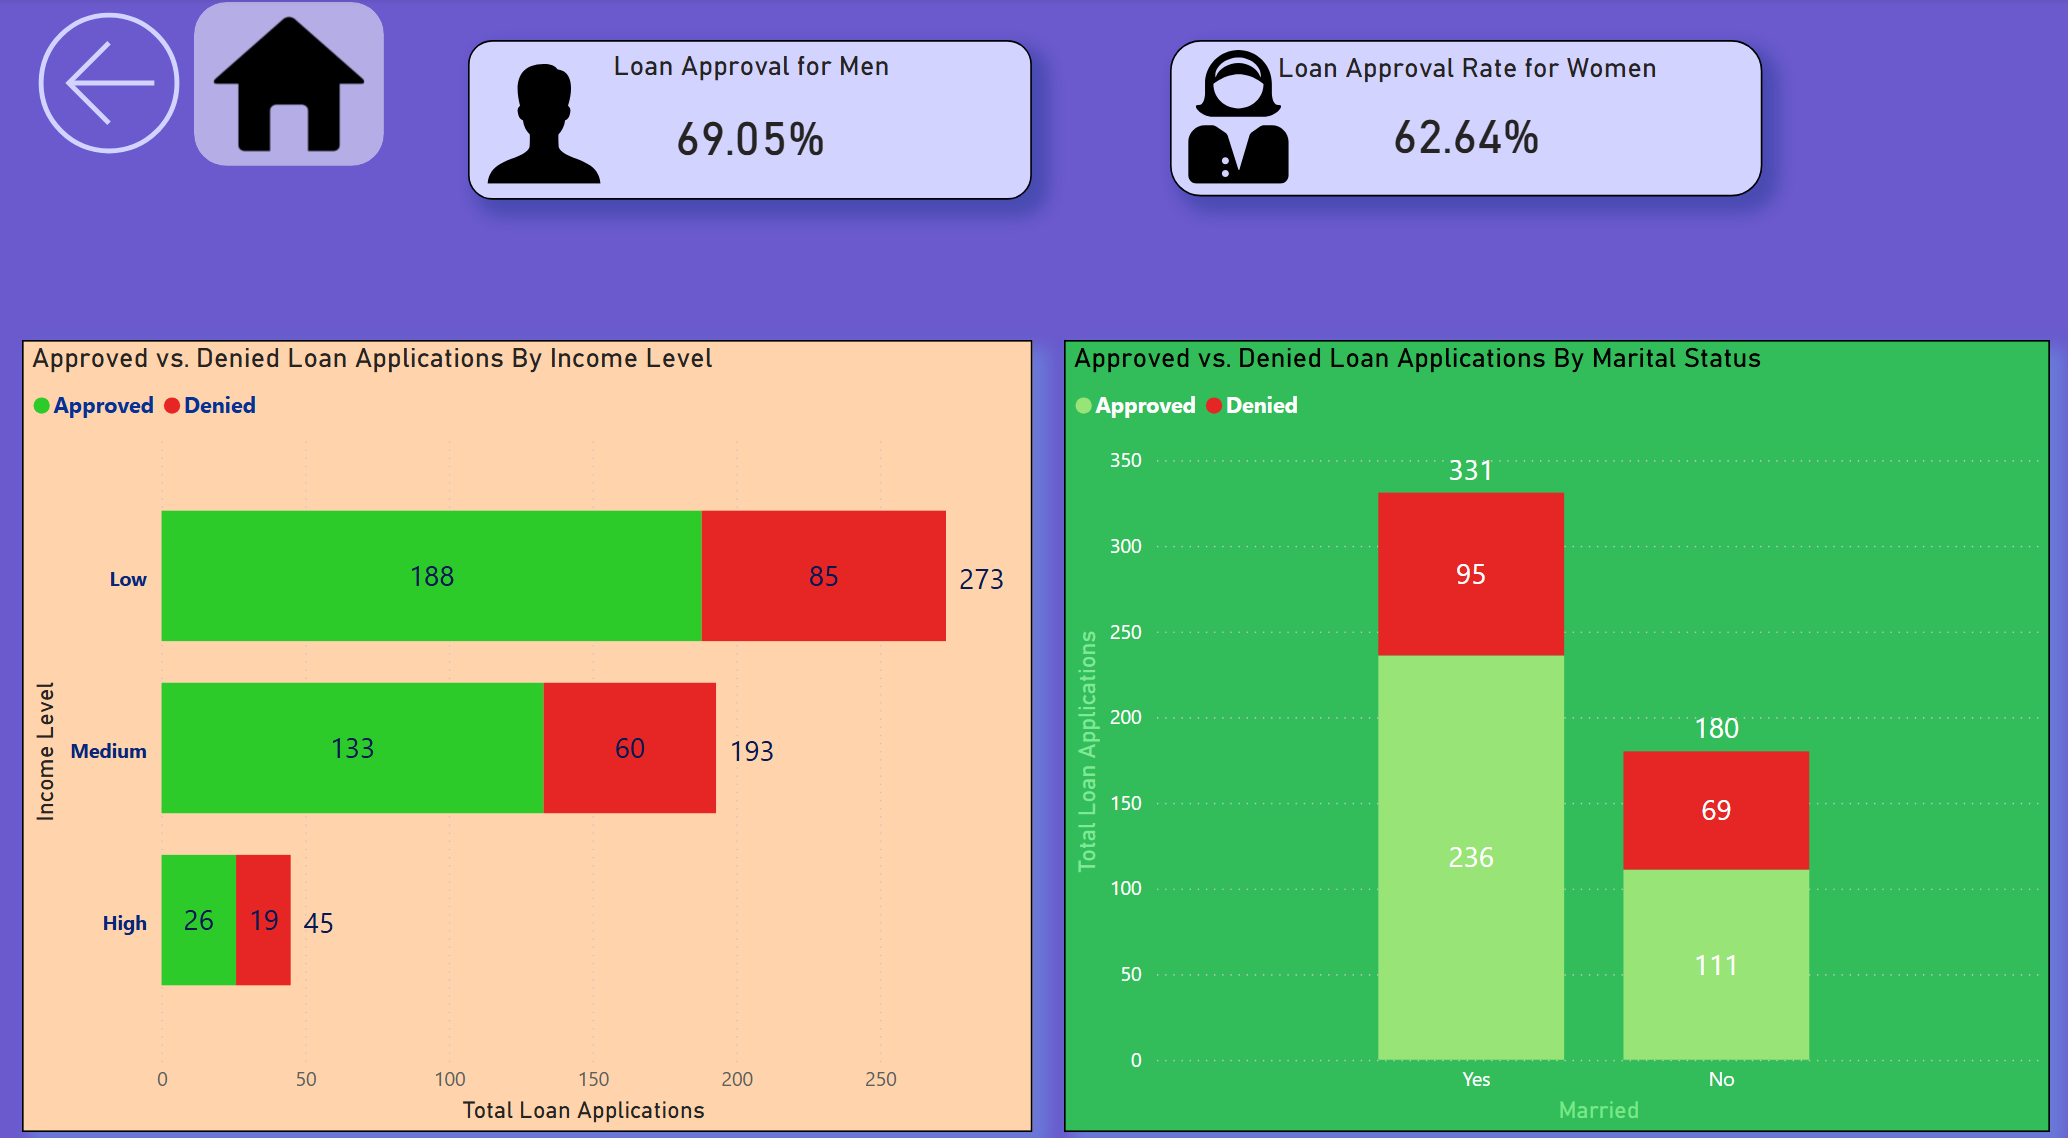

This screenshot's page, from the dashboard's own definition file:
{"tool":"powerbi","page":{"name":"Loan Applications","canvas":[1280,720],"ordinal":2},"visuals":[{"type":"barChart","title":"Approved vs. Denied Loan Applications By Income Level","fields":{"Category":["Loan Applications.Income Level"],"Series":["Loan Applications.Application Status"],"Y":["Loan Applications.Total Loan Applications"]},"box":[20.9,211.1,619.8,486],"z":0},{"type":"columnChart","title":"Approved vs. Denied Loan Applications By Marital Status ","fields":{"Series":["Loan Applications.Application Status"],"Y":["Loan Applications.Total Loan Applications"],"Category":["Loan Applications.Married"]},"box":[660.2,211.1,605,486],"z":1000},{"type":"card","title":"Loan Approval for Men","fields":{"Values":["Loan Applications.Loan Approval Rate(Men)"]},"box":[294.5,27,346.1,98.2],"z":2000},{"type":"card","title":"Loan Approval Rate for Women","fields":{"Values":["Loan Applications.Loan Approval Rate(Women)"]},"box":[725,27,363.3,96],"z":3000},{"type":"actionButton","box":[21,0,134.8,106.8],"z":4000},{"type":"image","box":[283.5,41.7,114.1,73.6],"z":5000},{"type":"image","box":[725,33.5,84,81.8],"z":6000},{"type":"actionButton","box":[126.4,3.7,116.6,100.6],"z":7000}]}

Visuals, with their boxes in screenshot pixels (x1, y1, x2, y2), scaled from the page's 1280x720 canvas onto the 2068x1138 screenshot:
"Approved vs. Denied Loan Applications By Income Level" barChart: Rect(34, 334, 1035, 1102)
"Approved vs. Denied Loan Applications By Marital Status " columnChart: Rect(1067, 334, 2044, 1102)
"Loan Approval for Men" card: Rect(476, 43, 1035, 198)
"Loan Approval Rate for Women" card: Rect(1171, 43, 1758, 194)
actionButton: Rect(34, 0, 252, 169)
image: Rect(458, 66, 642, 182)
image: Rect(1171, 53, 1307, 182)
actionButton: Rect(204, 6, 393, 165)
